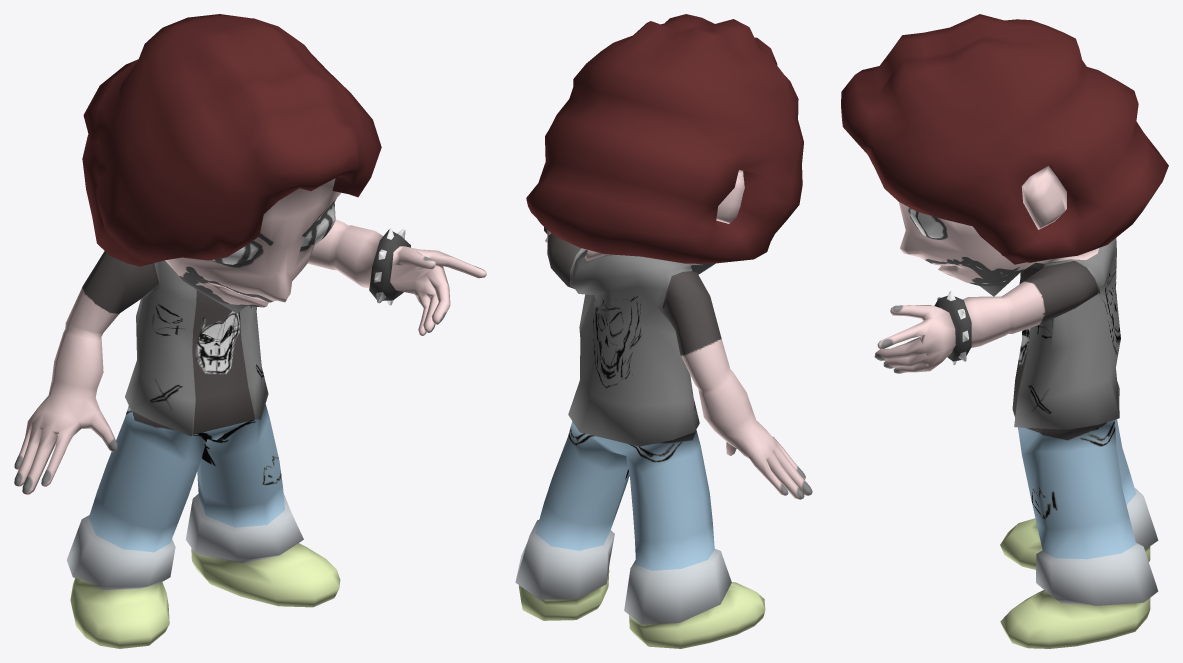
The model's file is rockero_rigging_000099.obj.
3 renders of one model, left to right at view 1: azimuth 30°, elevation 25°; view 2: azimuth 150°, elevation 25°; view 3: azimuth 270°, elevation 25°, orthographic. The views are drawn at different scales.
Visible parts, largest first — view 1: Cylinder.001; view 2: Cylinder.001; view 3: Cylinder.001.
Part boxes in pixels (x1,y1,x2,y2): Cylinder.001: (14,14,486,648); Cylinder.001: (515,14,812,648); Cylinder.001: (841,14,1168,648).
Size of the model in its own units: 2.96 by 4.59 by 2.41.
Materials: 1 (1 with a texture image).
